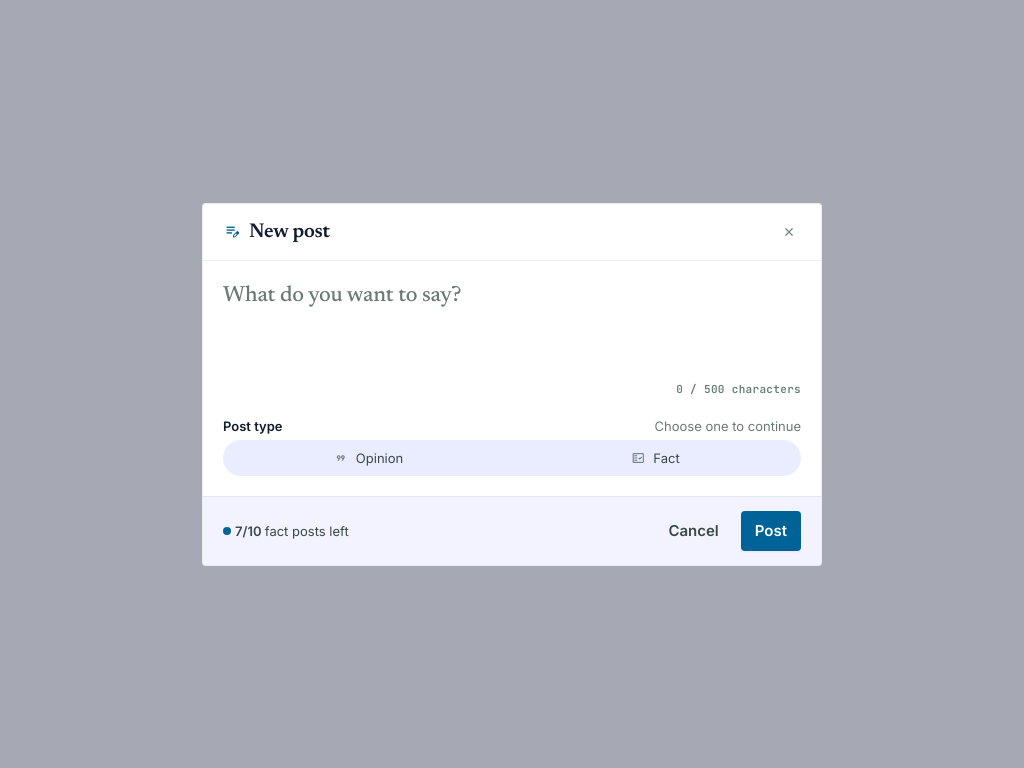
ComposerModal: the form › counts characters up to 500
Expected: the text "0 / 500 characters" is shown, top-left (676, 382), bottom-right (801, 396)
In the text box named "Post text": {"x": 512, "y": 326} top-left (223, 280), bottom-right (801, 370), type "Hello"
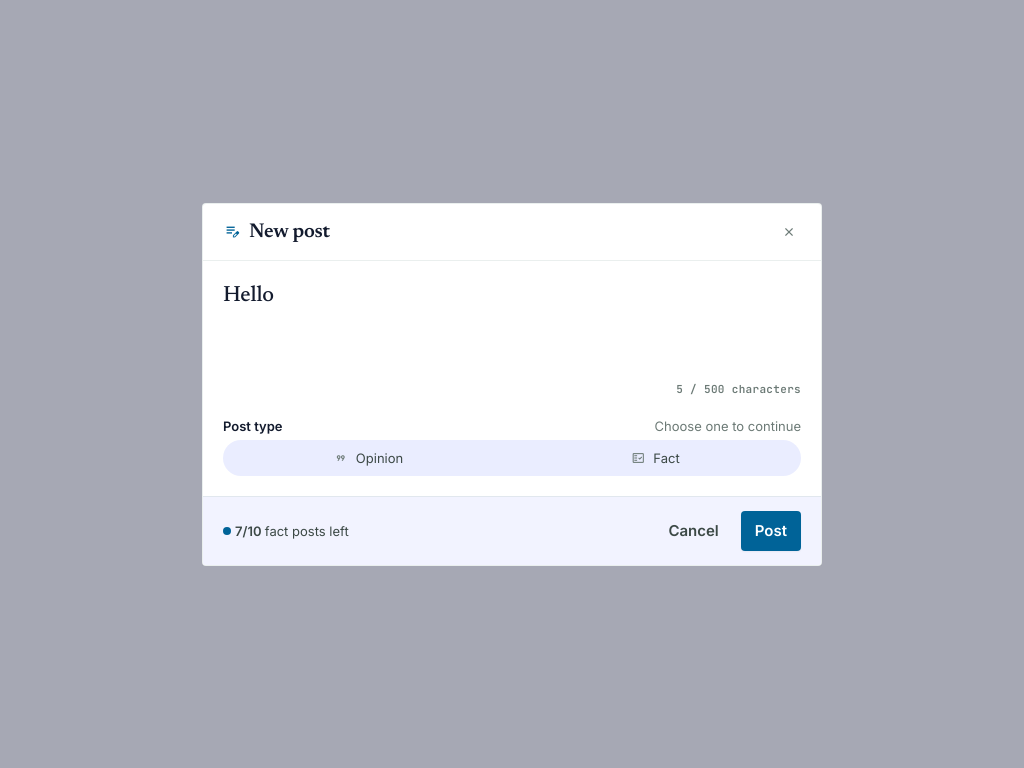
Now the text "5 / 500 characters" is shown, box top-left (676, 382), bottom-right (801, 396)
